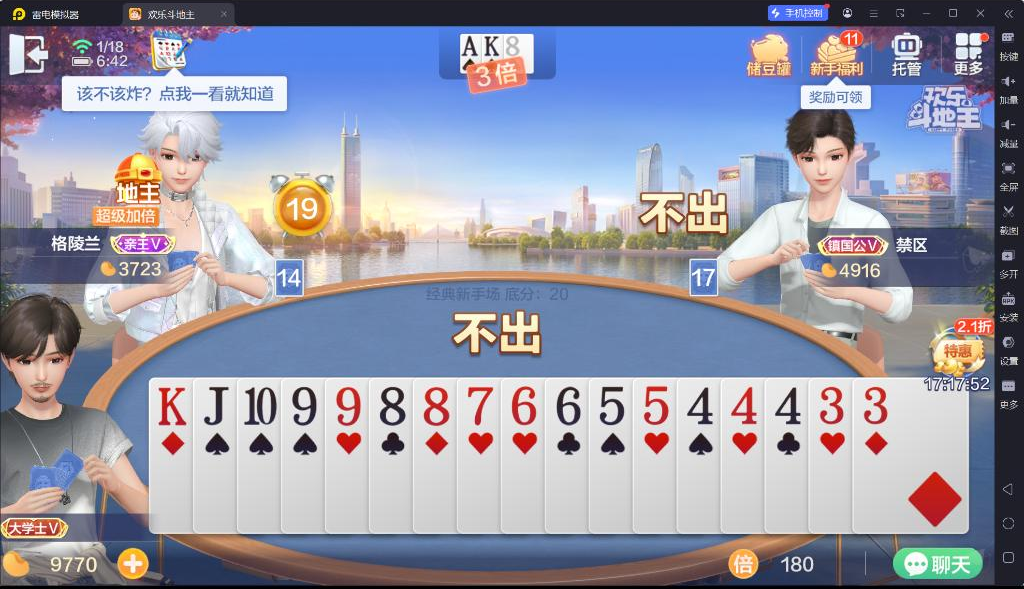A: (461, 34, 479, 58)
J: (198, 381, 232, 426)
K: (155, 382, 189, 426), (482, 35, 502, 57)
eight: (419, 382, 452, 428), (375, 383, 408, 426), (504, 35, 521, 57)
five: (598, 383, 626, 427), (642, 383, 670, 426)
four: (771, 383, 804, 427), (728, 383, 759, 427), (685, 385, 716, 428)
nine: (286, 385, 319, 427), (332, 385, 362, 428)
seven: (463, 383, 494, 427)
six: (506, 382, 540, 426), (553, 383, 584, 427)
ten: (241, 384, 278, 428)
three: (816, 381, 845, 426), (860, 382, 889, 425)
